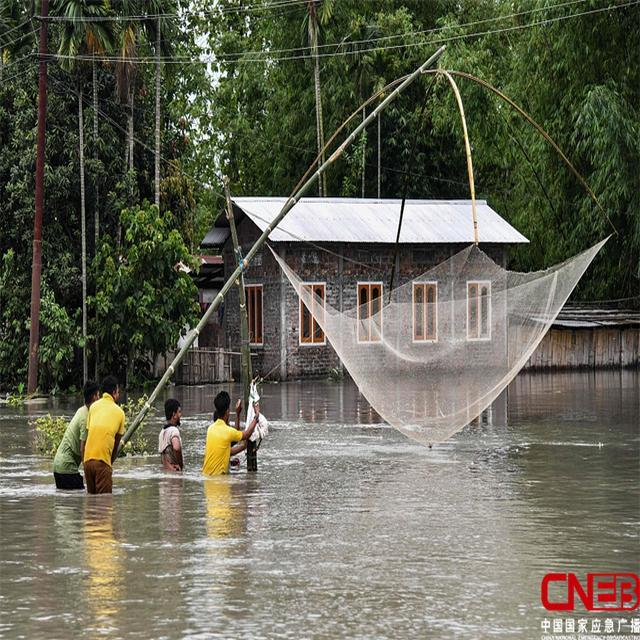Person-RiskLevel1: (200, 389, 262, 484), (52, 379, 94, 500), (81, 375, 122, 496), (150, 388, 188, 483)
